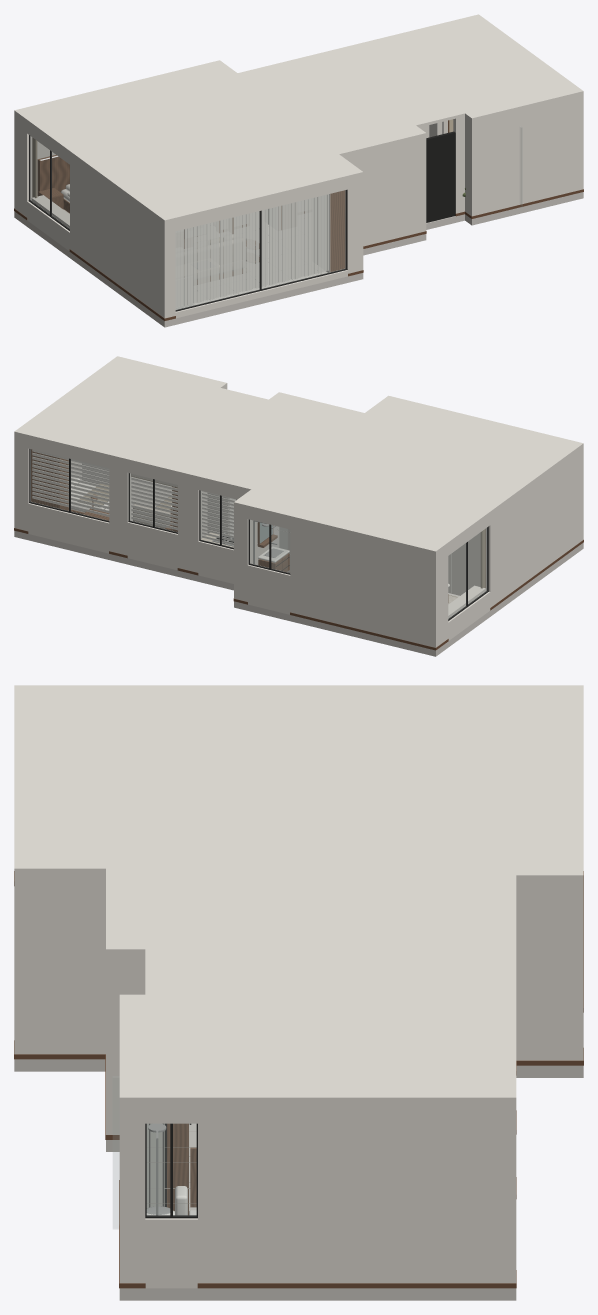
Rendered from panorama-home.glb.
The picture shows the model from 3 angles, top to bottom: view 1: azimuth 30°, elevation 25°; view 2: azimuth 150°, elevation 25°; view 3: azimuth 270°, elevation 25°; orthographic projection. The views are drawn at different scales.
Visible parts, largest first — view 1: Drawing outline ceiling, Balcony glazing glass, Right south edge, Central south edge, Living west, Drawing outline foundation, Entry security door, Bedroom west bay glass, Balcony west, Balcony glazing lintel, Bedroom west bay right, Balcony glazing sill wall (+13 smaller); view 2: Drawing outline ceiling, Bedroom north, Living west, Study north window glass, Drawing outline foundation, Study north window sill wall, Bedroom west bay glass, Balcony west, Second north window glass, Bedroom west bay right, Second north window sill wall, Ensuite north window sill wall (+27 smaller); view 3: Drawing outline ceiling, Study east, Balcony east return, Bath east window left, Upper notch east return, Drawing outline foundation, Bath east window right, Bath east window glass, Bath east window sill wall, Entry notch west return, Ensuite north window right, Study east skirting (+5 smaller).
Part boxes in pixels (<box>): Drawing outline ceiling: <box>14,14,583,223</box>; Balcony glazing glass: <box>176,190,345,309</box>; Right south edge: <box>469,95,578,216</box>; Central south edge: <box>342,137,421,246</box>; Living west: <box>87,166,139,299</box>; Drawing outline foundation: <box>14,192,583,327</box>; Entry security door: <box>426,131,455,222</box>; Bedroom west bay glass: <box>30,136,69,228</box>; Balcony west: <box>139,205,168,317</box>; Balcony glazing lintel: <box>175,178,347,231</box>; Bedroom west bay right: <box>70,154,86,261</box>; Balcony glazing sill wall: <box>175,268,347,318</box>; Drawing outline ceiling: <box>14,356,583,554</box>; Bedroom north: <box>301,521,438,647</box>; Living west: <box>507,464,558,595</box>; Study north window glass: <box>30,449,108,520</box>; Drawing outline foundation: <box>14,530,583,656</box>; Study north window sill wall: <box>28,501,109,553</box>; Bedroom west bay glass: <box>448,528,487,618</box>; Balcony west: <box>558,446,583,557</box>; Second north window glass: <box>130,474,177,532</box>; Bedroom west bay right: <box>485,502,507,607</box>; Second north window sill wall: <box>127,521,177,570</box>; Ensuite north window sill wall: <box>247,563,290,614</box>; Drawing outline ceiling: <box>14,685,583,1103</box>; Study east: <box>268,1103,516,1283</box>; Balcony east return: <box>14,874,105,1054</box>; Bath east window left: <box>198,1103,268,1283</box>; Upper notch east return: <box>516,880,572,1060</box>; Drawing outline foundation: <box>14,1059,583,1300</box>; Bath east window right: <box>119,1103,145,1283</box>; Bath east window glass: <box>147,1124,196,1215</box>; Bath east window sill wall: <box>145,1218,197,1288</box>; Entry notch west return: <box>106,954,145,1134</box>; Ensuite north window right: <box>573,880,583,1060</box>; Study east skirting: <box>268,1279,516,1288</box>.
Bounding box in the file's own units: 12.92 × 2.96 × 7.54.
20 materials, 2 textured.
